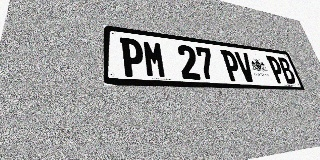2: (176, 44, 201, 80)
7: (194, 46, 218, 81)
B: (277, 57, 297, 84)
M: (142, 40, 167, 78)
P: (120, 37, 145, 77), (220, 50, 243, 82), (266, 55, 287, 83)
V: (234, 52, 256, 82)
